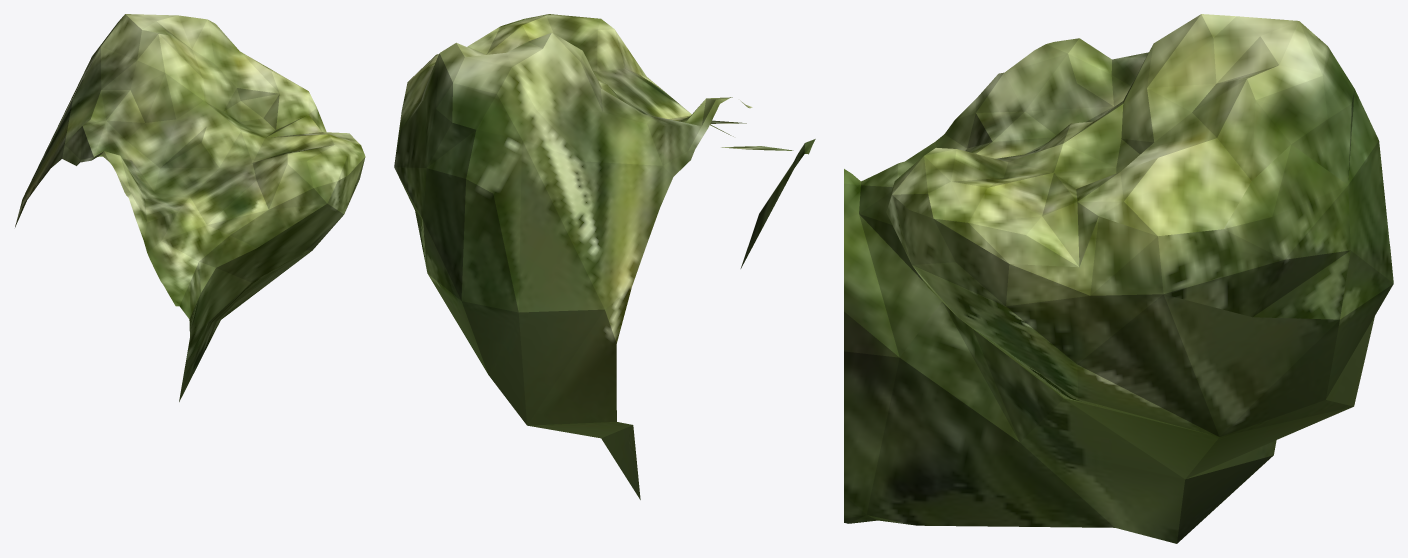
3 views of the same model, side by side, from view 1: azimuth 30°, elevation 25°; view 2: azimuth 150°, elevation 25°; view 3: azimuth 270°, elevation 25° (orthographic). The views are drawn at different scales.
Size of the model in its own units: 0.8607 by 1.43 by 1.19.
Materials: 1 (1 with a texture image).
